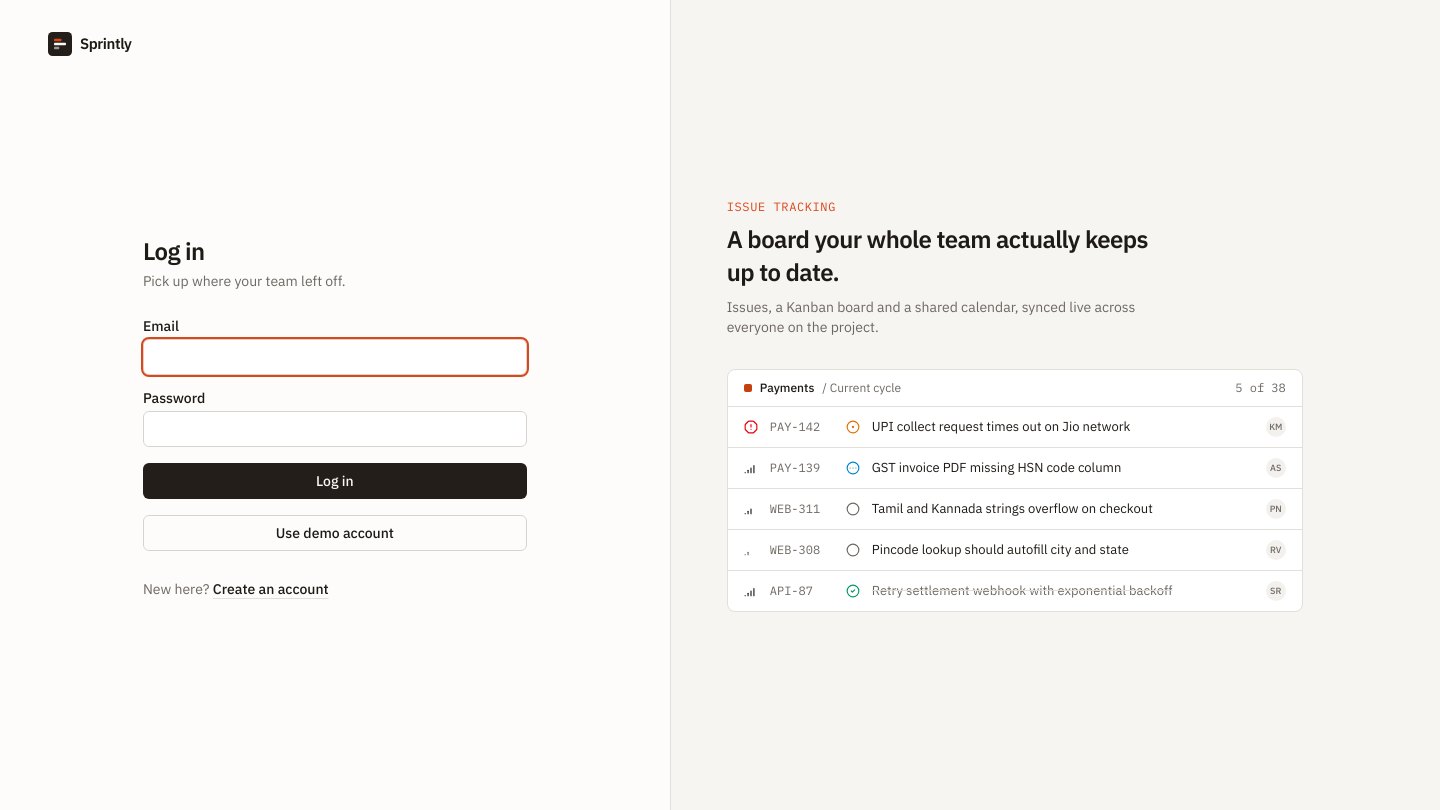
Test: LoginPage › shows accessible field errors from the shared Zod schema without calling the API
Type "not-an-email" into the field labelled "Email" at (335, 357), box top-left (143, 339), bottom-right (527, 375)
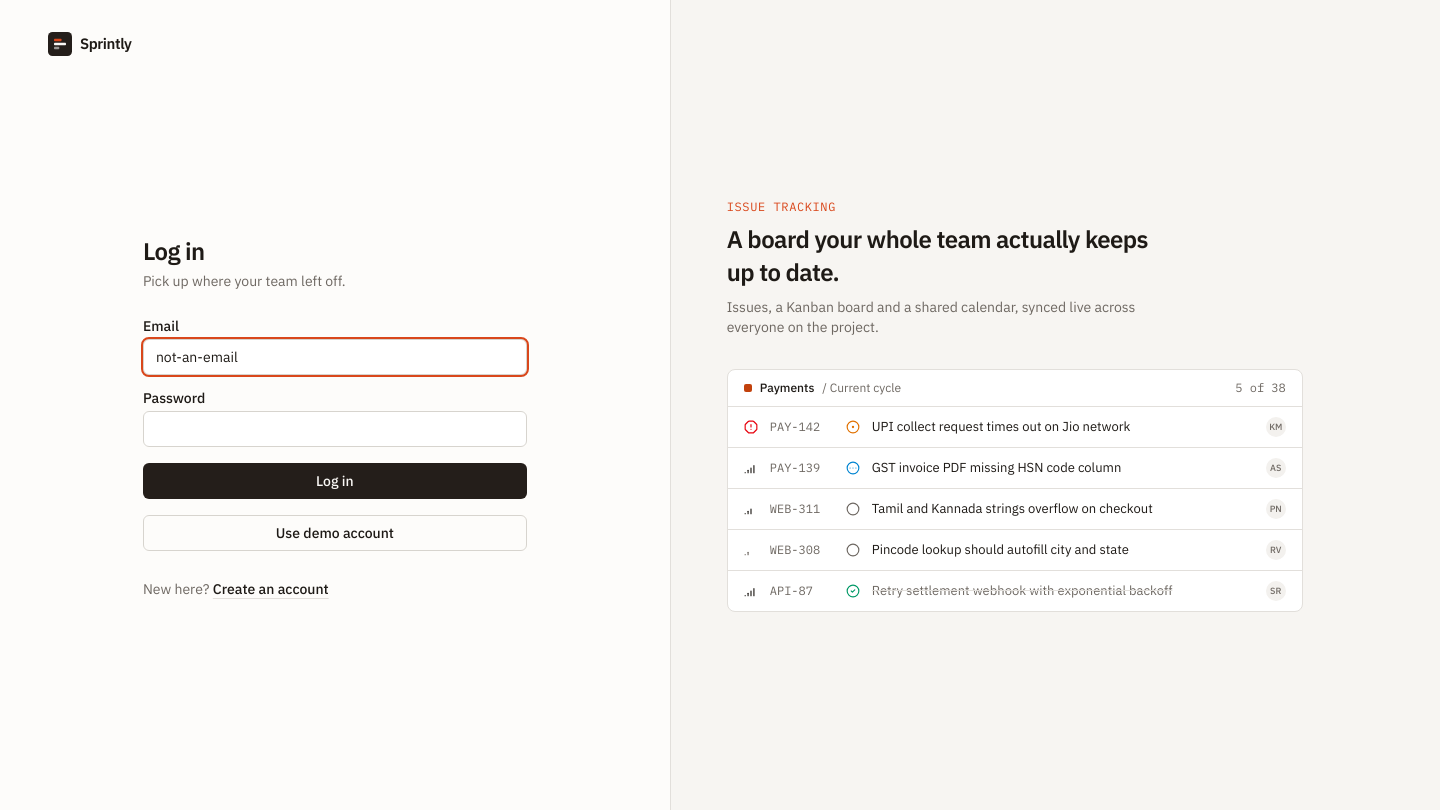
Click the button "Log in" at (335, 481), box top-left (143, 463), bottom-right (527, 499)
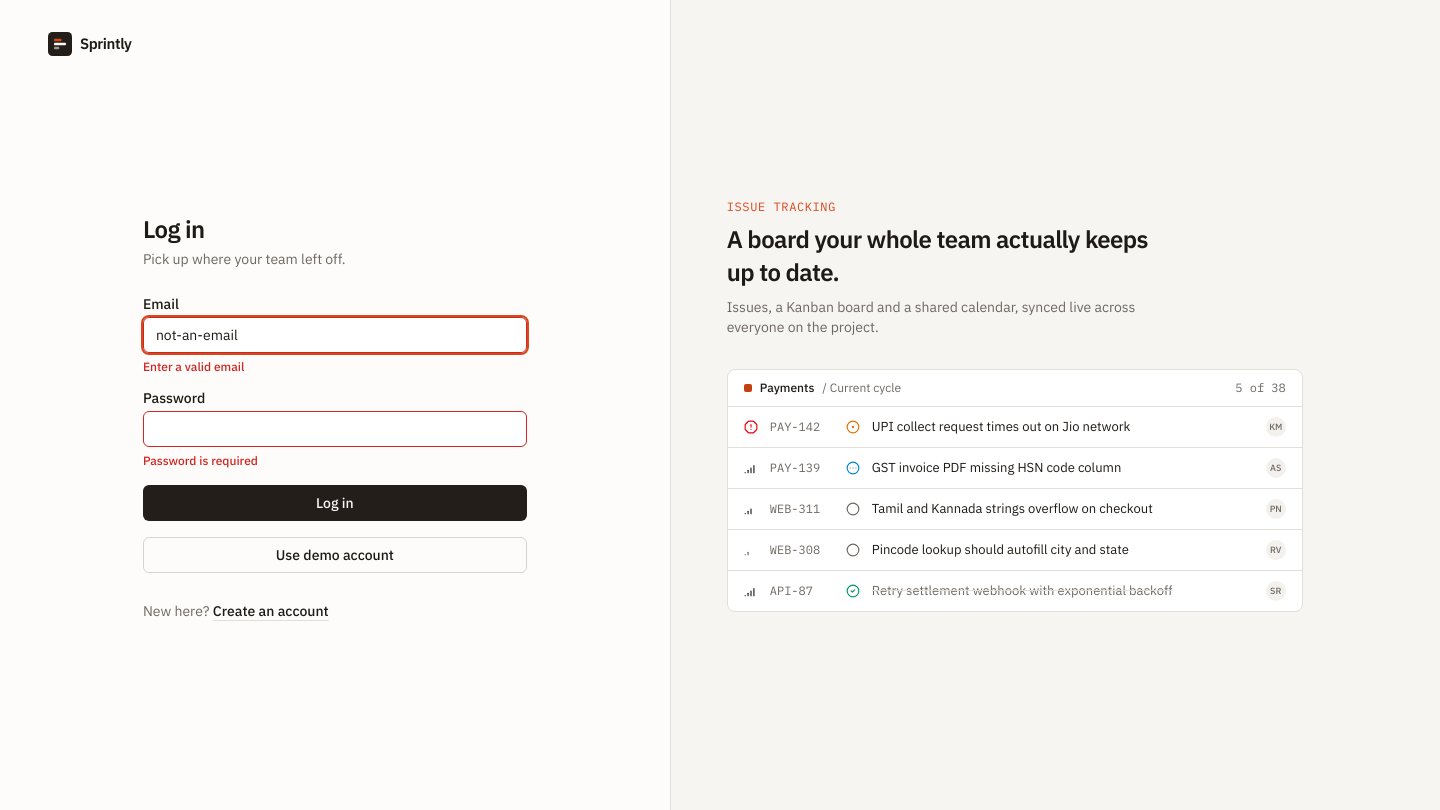
Expected: the text "Enter a valid email" is shown, top-left (143, 359), bottom-right (244, 374)
Expected: the text "Password is required" is shown, top-left (143, 453), bottom-right (258, 468)
